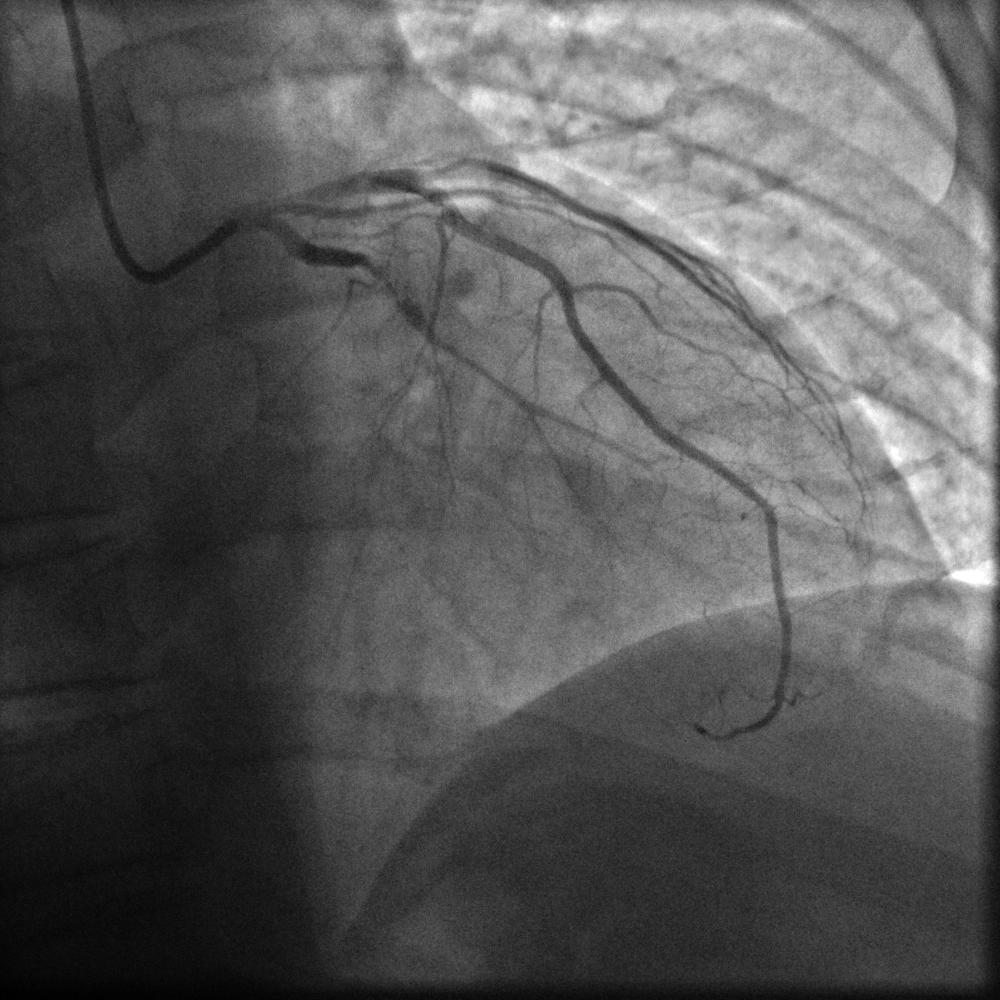Stenosis: (362, 249, 409, 317)
